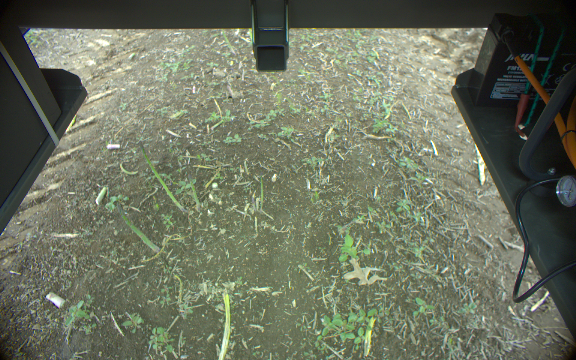aspa: (141, 140, 184, 214), (117, 202, 160, 254), (209, 293, 232, 360), (186, 166, 203, 212)
